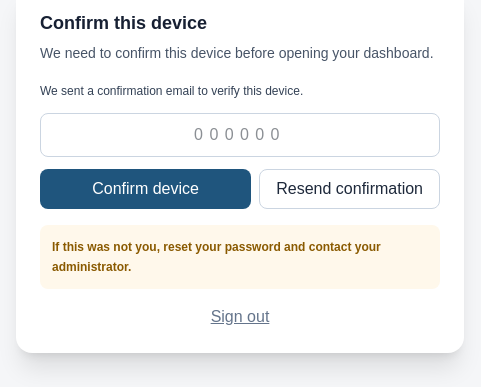
Test: DeviceGate › disables resend while the cooldown runs
Click the button "Resend confirmation". click: {"x": 350, "y": 189}
box: [259, 169, 440, 209]
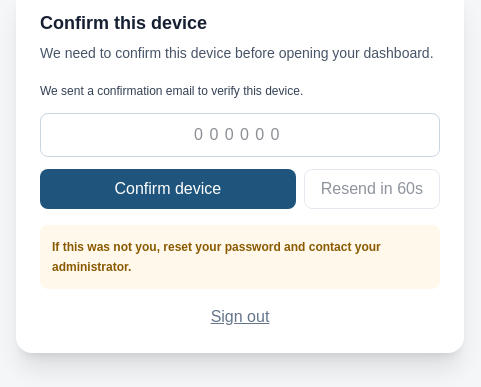
Now the button "Resend in 60s" is disabled, box [304, 169, 440, 209]
